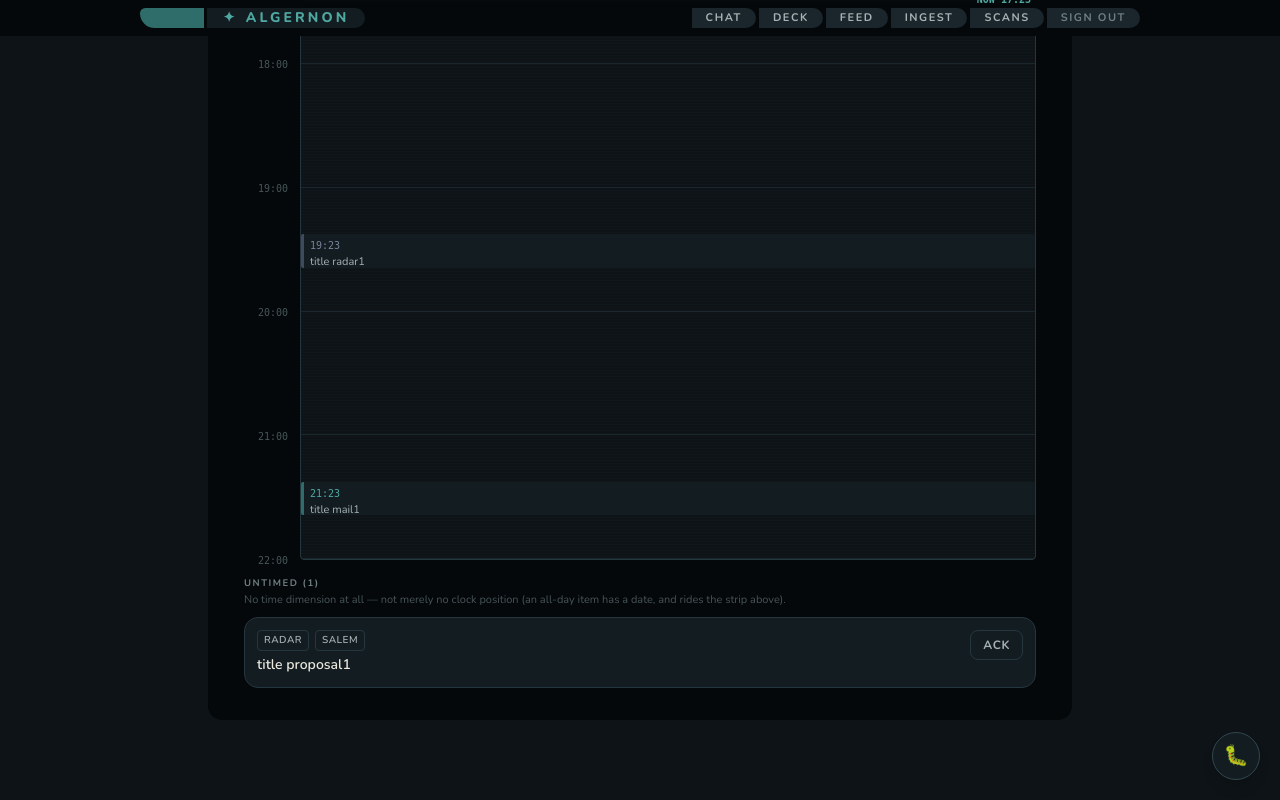
FeedPage — the timeline is wired to the page, not just wire-able › D1: a deck-able decision on the band gets NO judgment verbs, while the FYI row keeps its Ack
The width and height of the screenshot is (1280, 800).
(page scrolled)
Click the button with test id "timeline-trace" showing "21:23 title mail1 Email tier". click: {"x": 325, "y": 493}
box: [301, 482, 1035, 515]
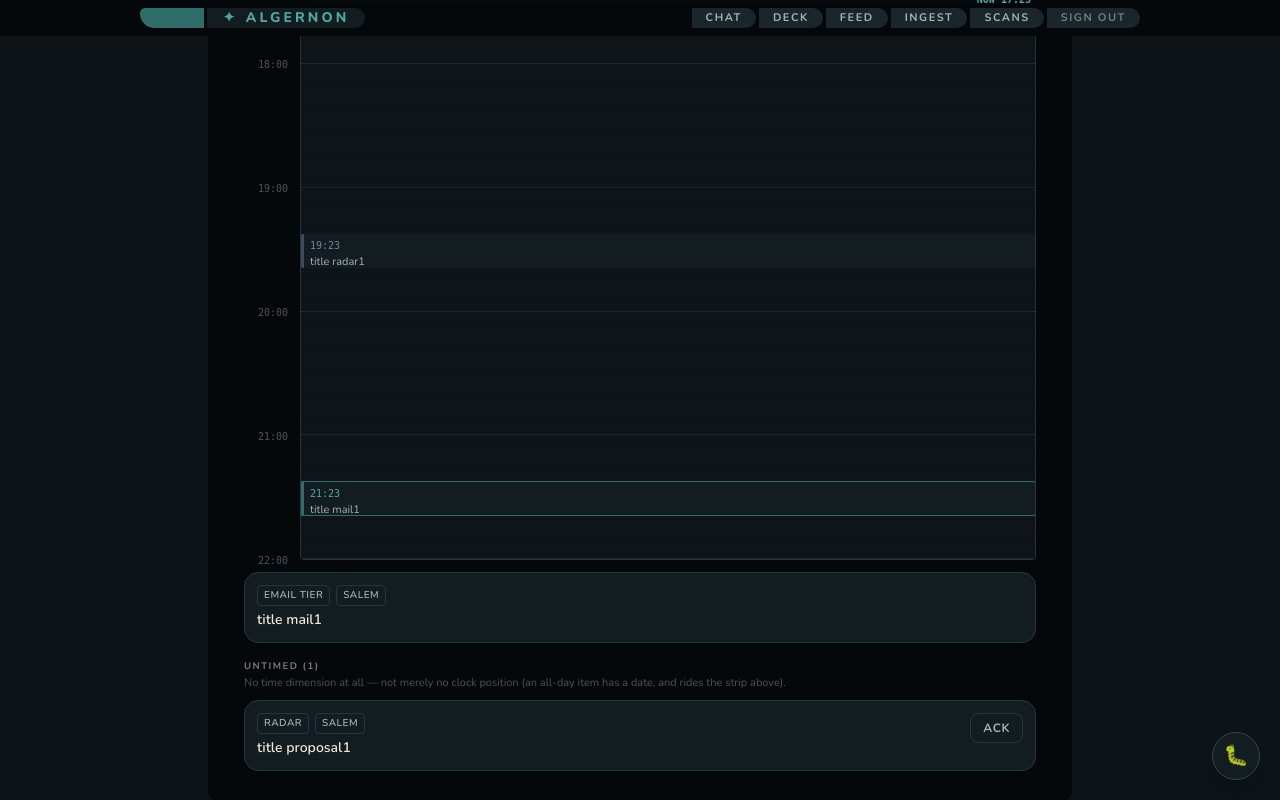
Now the list item with test id "feed-row" showing "Email tier salem title mail1" is shown, box [244, 572, 1036, 643]
Click the button with test id "timeline-trace" showing "19:23 title radar1 Radar". click: {"x": 325, "y": 246}
box: [301, 234, 1035, 268]
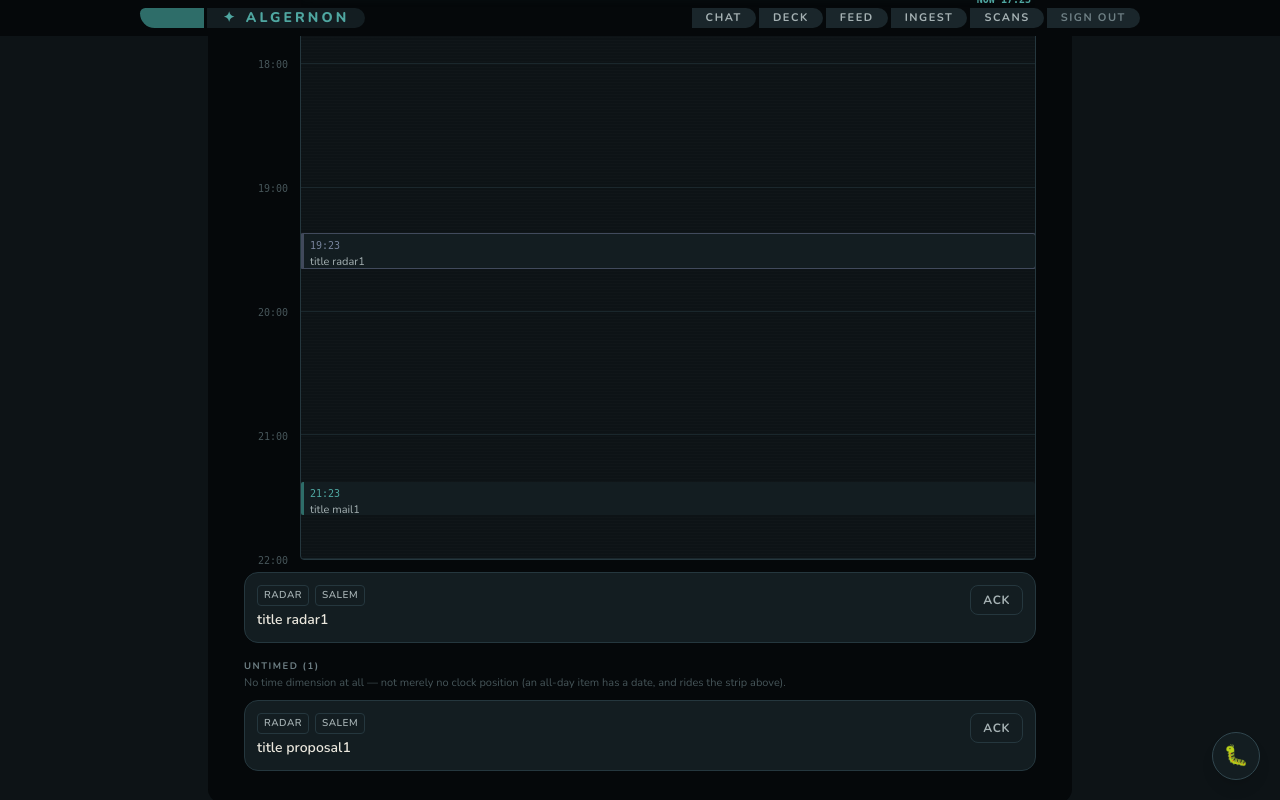
Now the 1st button with test id "feed-row-ack" is shown, box [970, 585, 1023, 615]
